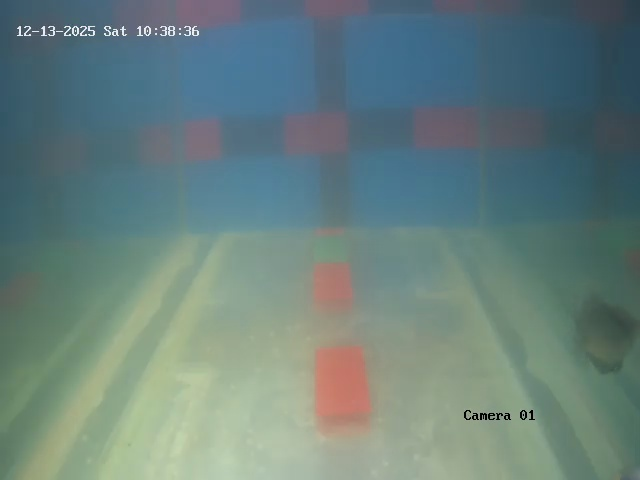fish: (569, 292, 631, 375)
